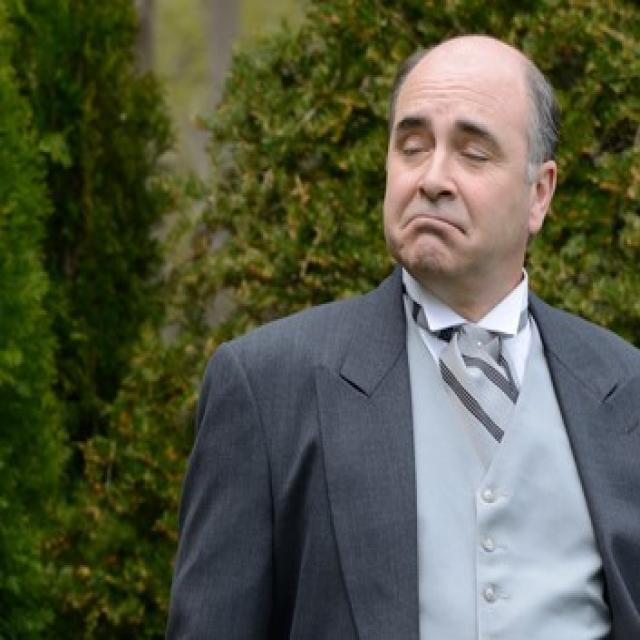human: (161, 26, 640, 640)
